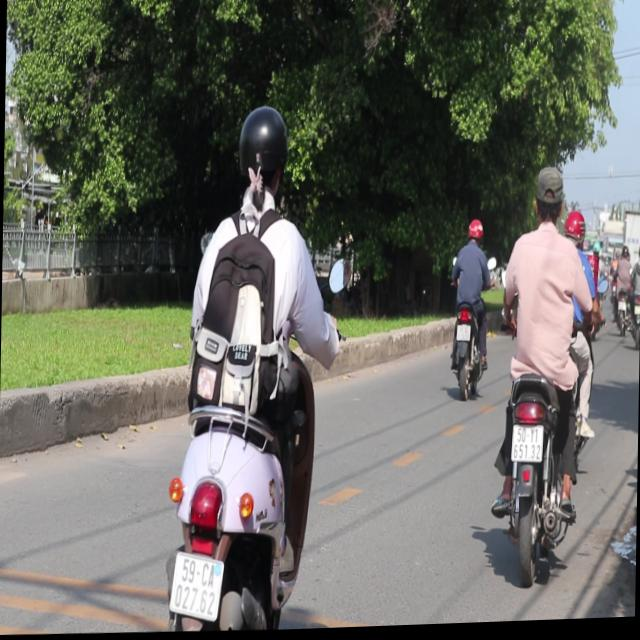helmet: (233, 103, 290, 206), (562, 210, 585, 249), (466, 218, 482, 245)
licenseplate: (157, 99, 343, 635), (485, 163, 600, 591), (444, 218, 491, 400)
motorcyclist: (530, 166, 564, 230)
nohelmet: (168, 553, 222, 623), (508, 425, 542, 466)
